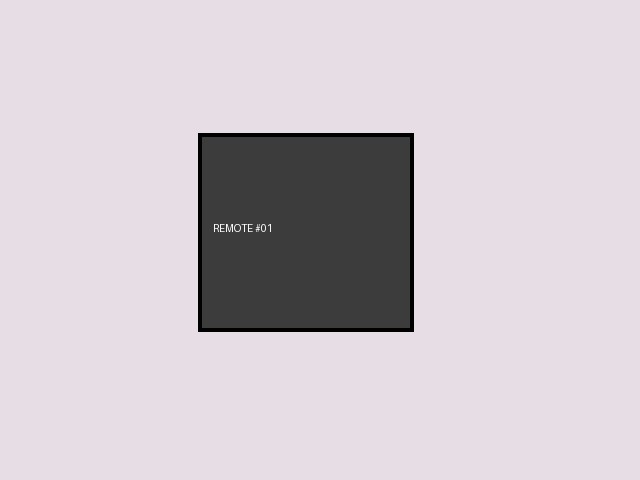remote: (198, 133, 413, 331)
